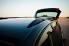car: (30, 9, 61, 43)
